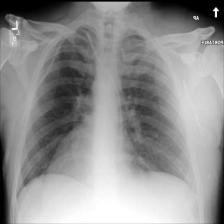normal: (11, 24, 202, 197)
